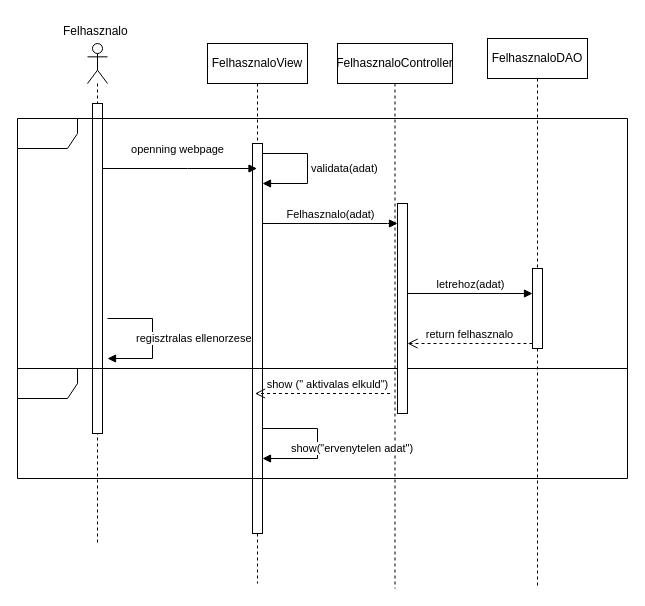
The diagram is 645 pixels wide and 606 high, and some of its shapes have lost their labels. The centre of each missing label's shape, as x and y in pixels:
"Data is invalid" goes at [322,423].
"Data is valid" goes at [322,243].
